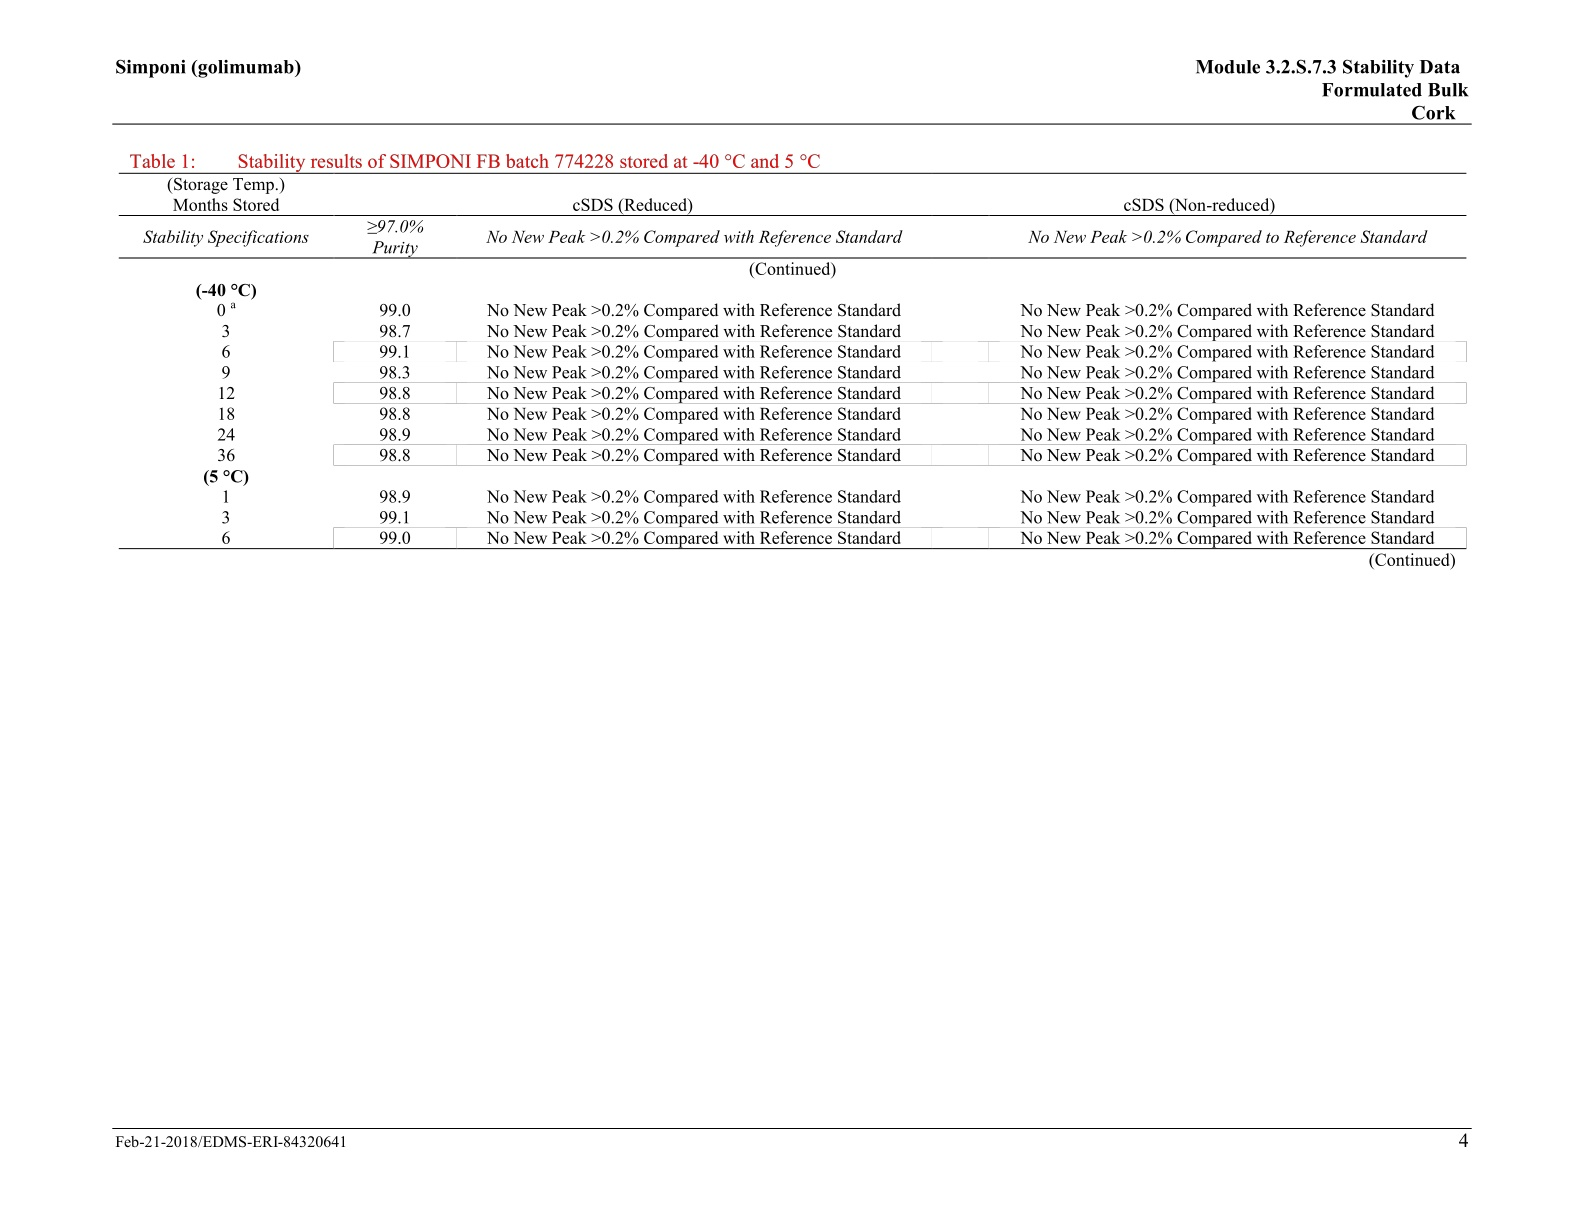partial_lined: (118, 172, 1470, 549)
